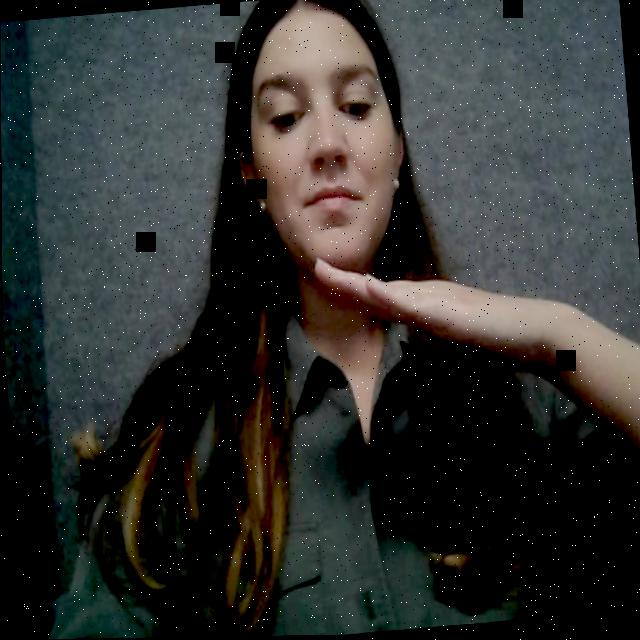Paper: (297, 241, 548, 407)
